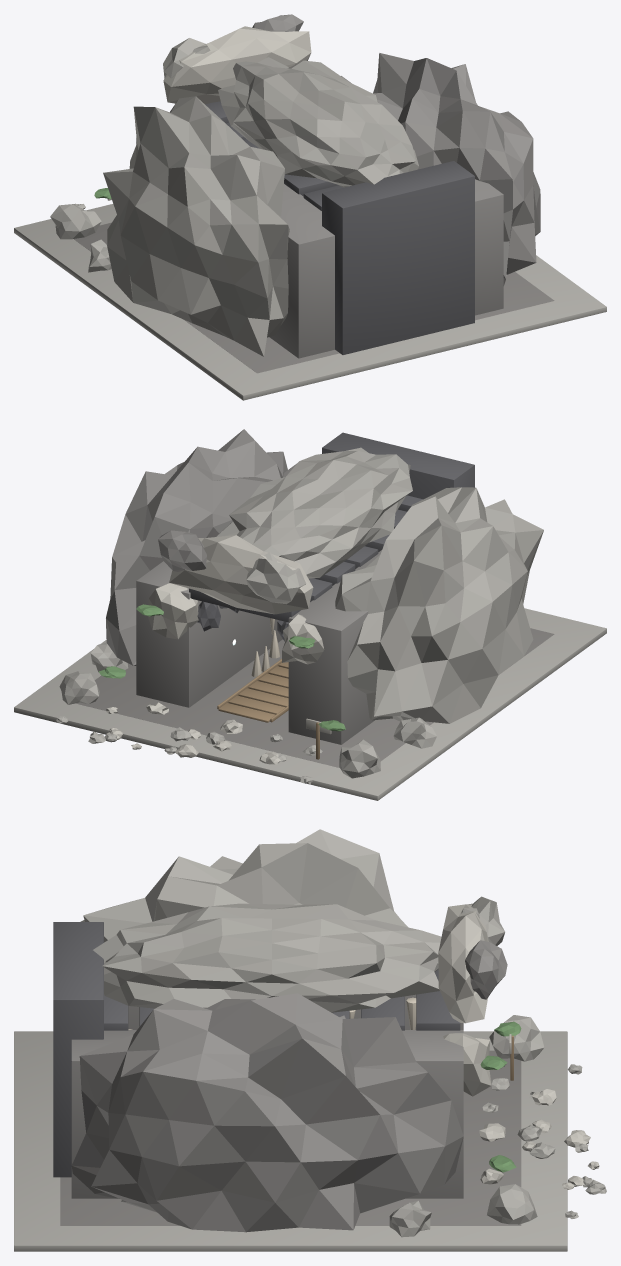
Rendered from th26_hoehleneingang.glb.
3 views of the same model, one above another, from view 1: azimuth 30°, elevation 25°; view 2: azimuth 150°, elevation 25°; view 3: azimuth 270°, elevation 25° (orthographic). The views are drawn at different scales.
Visible parts, largest first — view 1: Felskoerper, Cube.004, Cube, Felskoerper.002, Felskoerper.001, Cube.002, Felskoerper.003, Cube.001, Cube.003, Brocken.020, Felskoerper.006, Cube.010 (+2 smaller); view 2: Felskoerper, Cube, Felskoerper.002, Felskoerper.001, Cube.003, Cube.001, Cube.002, Felskoerper.003, Cube.004, Felskoerper.005, Felskoerper.006, Felskoerper.007 (+9 smaller); view 3: Felskoerper.001, Felskoerper.002, Cube, Felskoerper, Cube.001, Cube.004, Cube.003, Felskoerper.003, Felskoerper.007, Felskoerper.005, Brocken.021, Brocken.020 (+5 smaller).
Boxes of the visible parts, box(x1,y1,x2,y2) form: Felskoerper: box(103, 96, 289, 356); Cube.004: box(322, 161, 474, 354); Cube: box(14, 204, 606, 400); Felskoerper.002: box(218, 57, 418, 187); Felskoerper.001: box(373, 53, 540, 285); Cube.002: box(136, 138, 334, 358); Felskoerper.003: box(163, 26, 311, 104); Cube.001: box(74, 222, 554, 373); Cube.003: box(341, 76, 503, 315); Brocken.020: box(50, 204, 101, 239); Felskoerper.006: box(163, 38, 210, 78); Cube.010: box(284, 174, 338, 196); Felskoerper: box(335, 487, 543, 723); Cube: box(14, 608, 606, 800); Felskoerper.002: box(216, 447, 412, 578); Felskoerper.001: box(106, 429, 287, 665); Cube.003: box(136, 463, 297, 707); Cube.001: box(75, 628, 554, 767); Cube.002: box(288, 550, 381, 744); Felskoerper.003: box(169, 535, 313, 614); Cube.004: box(322, 432, 474, 499); Felskoerper.005: box(148, 583, 198, 639); Felskoerper.006: box(246, 552, 306, 604); Felskoerper.007: box(158, 530, 206, 571); Felskoerper.001: box(71, 993, 463, 1232); Felskoerper.002: box(93, 903, 441, 1012); Cube: box(14, 1031, 567, 1251); Felskoerper: box(80, 829, 408, 942); Cube.001: box(60, 1050, 521, 1225); Cube.004: box(53, 922, 103, 1177); Cube.003: box(71, 1030, 463, 1198); Felskoerper.003: box(438, 904, 488, 1023); Felskoerper.007: box(465, 940, 507, 999); Felskoerper.005: box(443, 1033, 491, 1096); Brocken.021: box(487, 1184, 537, 1224); Brocken.020: box(489, 1015, 544, 1061).
Bounding box in the file's own units: 22.2 × 11.4 × 25.71.
